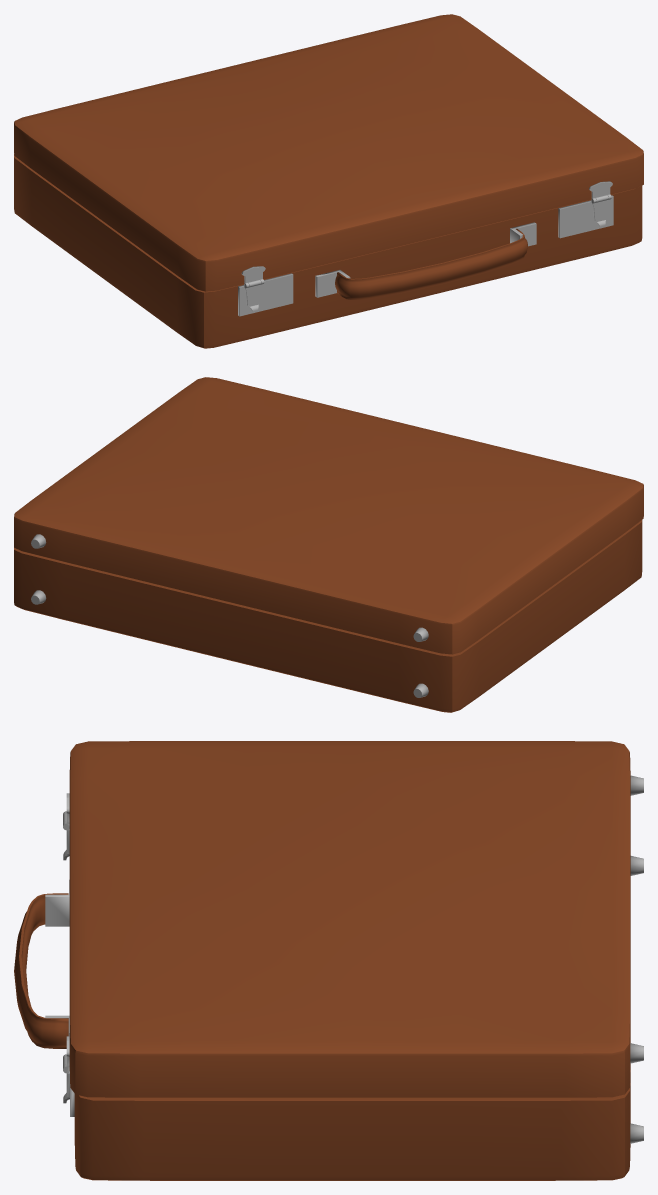
Rendered from Briefcase2.fbx.
The picture shows the model from 3 angles, top to bottom: view 1: azimuth 30°, elevation 25°; view 2: azimuth 150°, elevation 25°; view 3: azimuth 270°, elevation 25°; orthographic projection. The views are drawn at different scales.
Parts seen in each view (by area): view 1: Top_briefcse, Bottom_briefcase; view 2: Top_briefcse, Bottom_briefcase; view 3: Top_briefcse, Bottom_briefcase.
Boxes of the visible parts, x1,y1,x2,y2 form: Top_briefcse: [14, 14, 643, 311]; Bottom_briefcase: [14, 154, 642, 348]; Top_briefcse: [14, 377, 643, 654]; Bottom_briefcase: [14, 520, 642, 712]; Top_briefcse: [63, 741, 643, 1103]; Bottom_briefcase: [14, 856, 643, 1180].
Size of the model in its own units: 1577 by 360 by 1340.
